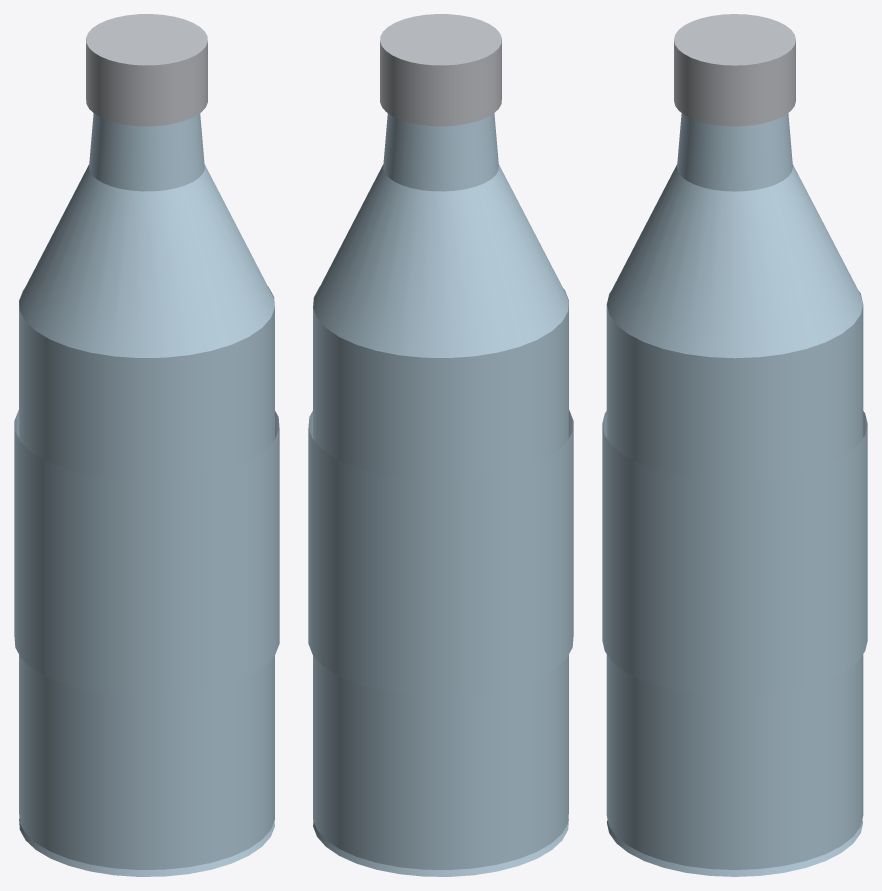
The model's file is botella-agua.glb.
3 views of the same model, side by side, from view 1: azimuth 30°, elevation 25°; view 2: azimuth 150°, elevation 25°; view 3: azimuth 270°, elevation 25° (orthographic).
Bounding box in the file's own units: 0.0738 × 0.24 × 0.0738.
